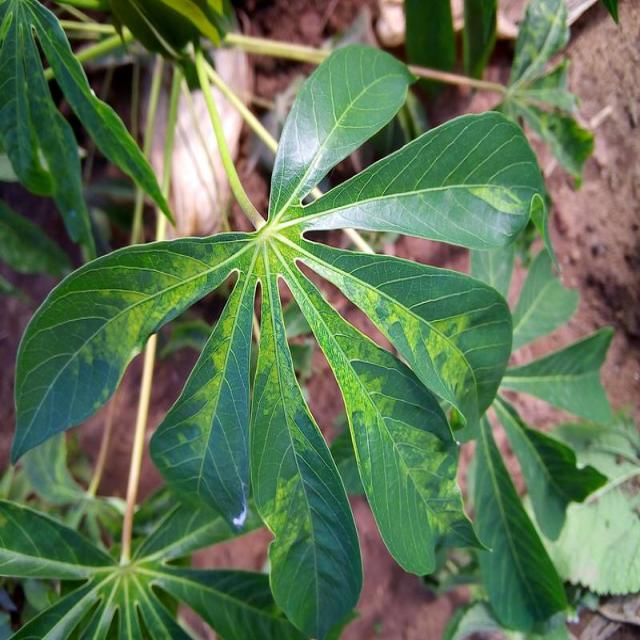cassava leaf: (10, 40, 552, 637)
